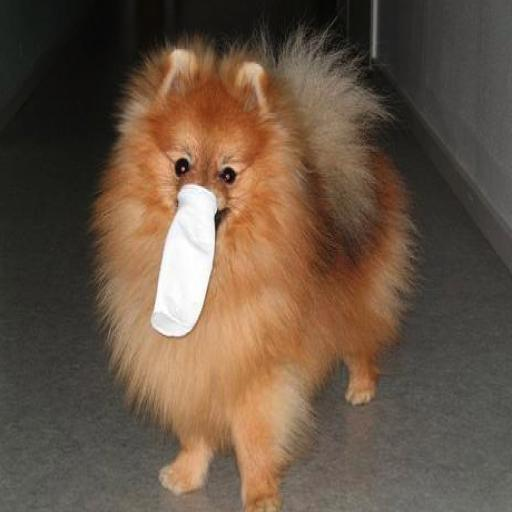dog_face: (142, 64, 279, 235)
